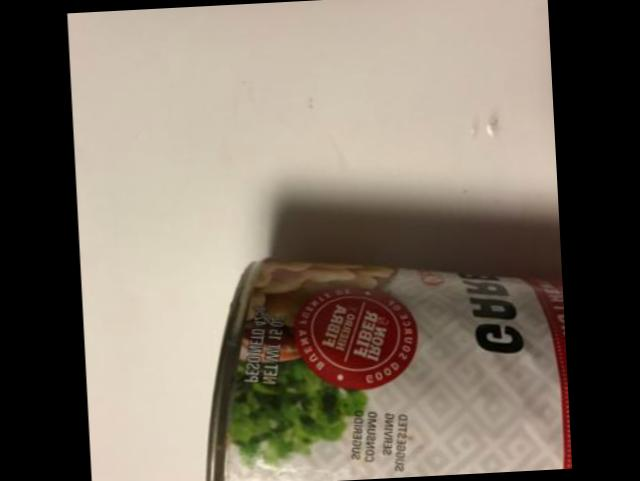metal: (212, 260, 573, 481)
